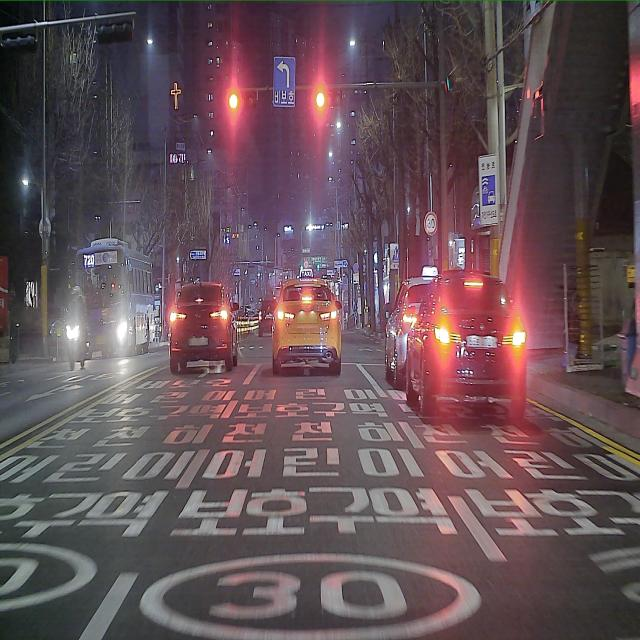Red Light: (228, 92, 238, 110), (315, 91, 325, 109)
